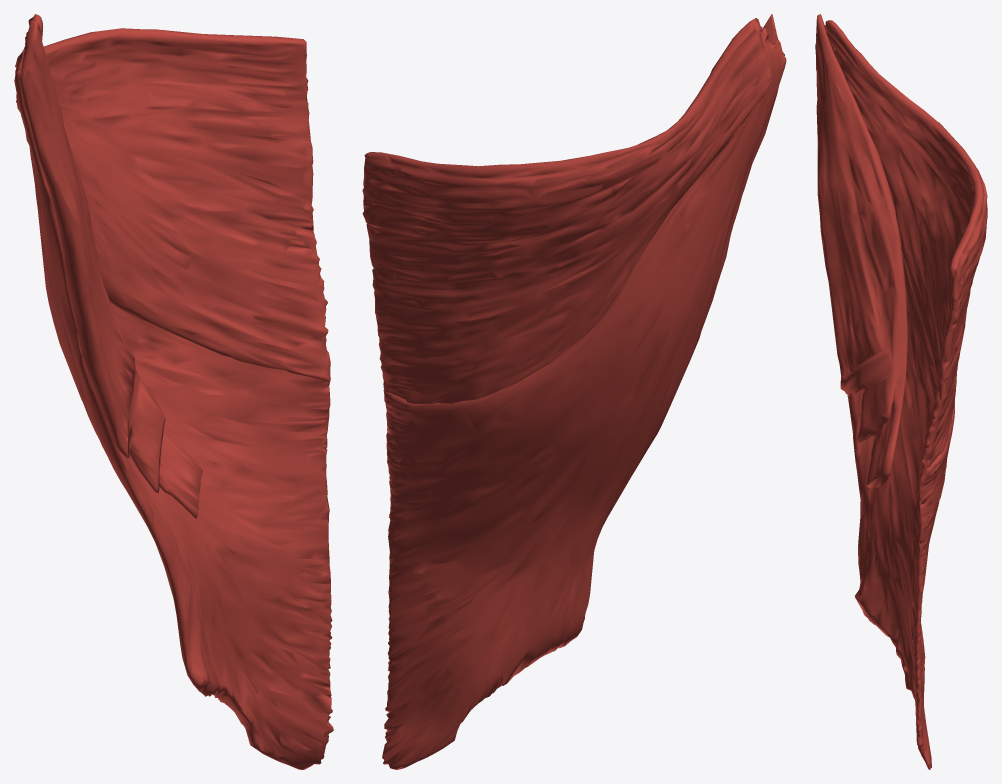
The model's file is musculos-latissimus-dorsi-muscle-r.glb.
The picture shows the model from 3 angles, left to right: view 1: azimuth 30°, elevation 25°; view 2: azimuth 150°, elevation 25°; view 3: azimuth 270°, elevation 25°; orthographic projection. The views are drawn at different scales.
Visible parts, largest first — view 1: Latissimus dorsi muscle.r; view 2: Latissimus dorsi muscle.r; view 3: Latissimus dorsi muscle.r.
Boxes of the visible parts, <box> form: Latissimus dorsi muscle.r: <box>14,14,333,769</box>; Latissimus dorsi muscle.r: <box>362,14,786,769</box>; Latissimus dorsi muscle.r: <box>815,14,987,769</box>.
Size of the model in its own units: 0.1869 by 0.4104 by 0.1017.
